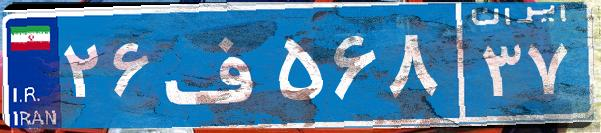2: (57, 26, 110, 107)
3: (475, 38, 525, 113)
5: (273, 28, 330, 110)
6: (330, 28, 385, 110), (110, 28, 158, 105)
7: (525, 38, 570, 115)
8: (385, 28, 445, 110)
ف: (158, 15, 273, 115)
